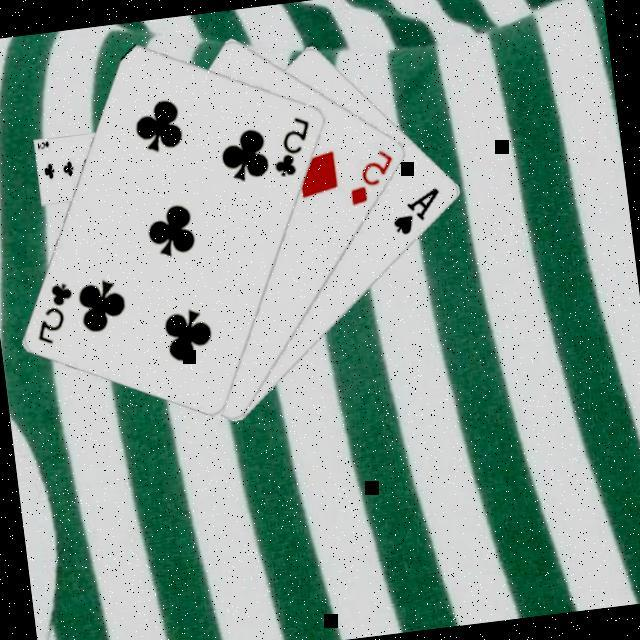5C: (27, 276, 81, 347), (264, 109, 318, 178)
5D: (341, 142, 400, 207)
AS: (385, 182, 447, 238)
